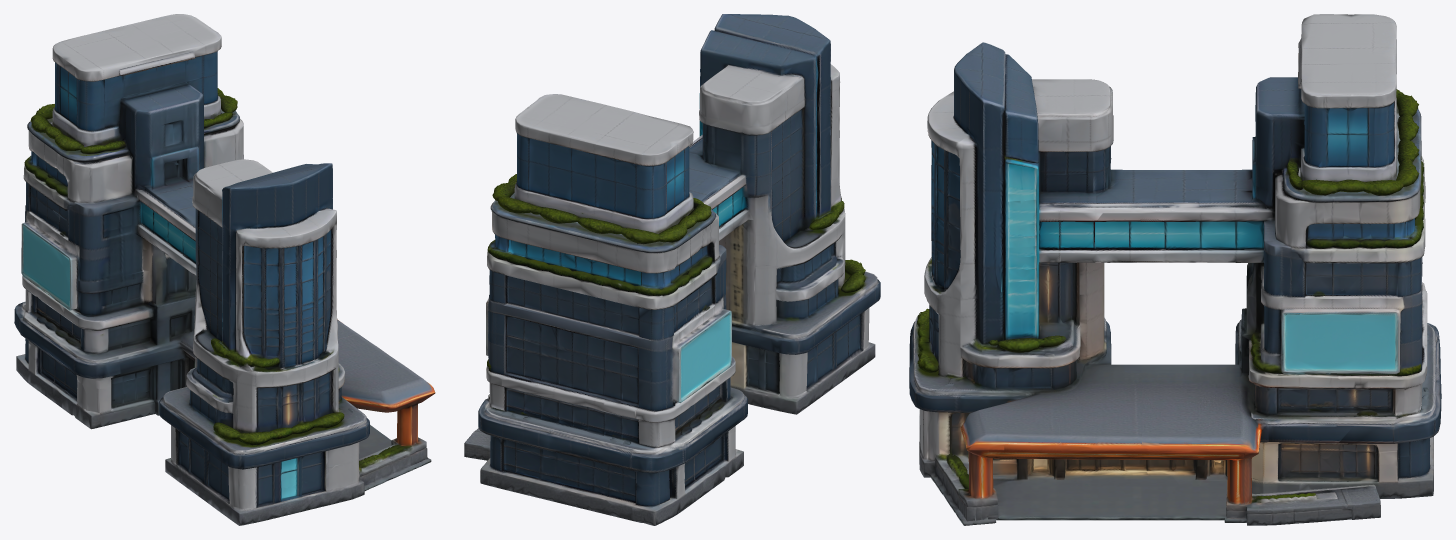
Rendered from level-4-web.glb.
The picture shows the model from 3 angles, left to right: view 1: azimuth 30°, elevation 25°; view 2: azimuth 150°, elevation 25°; view 3: azimuth 270°, elevation 25°; orthographic projection. The views are drawn at different scales.
Parts seen in each view (by area): view 1: tripo_node_f47280e8-8169-466e-a1cc-a0d643840b1c; view 2: tripo_node_f47280e8-8169-466e-a1cc-a0d643840b1c; view 3: tripo_node_f47280e8-8169-466e-a1cc-a0d643840b1c.
Part boxes in pixels (x1,y1,x2,y2): tripo_node_f47280e8-8169-466e-a1cc-a0d643840b1c: (14, 14, 435, 525); tripo_node_f47280e8-8169-466e-a1cc-a0d643840b1c: (464, 14, 880, 525); tripo_node_f47280e8-8169-466e-a1cc-a0d643840b1c: (909, 14, 1441, 525).
Size of the model in its own units: 0.5948 by 0.8027 by 0.9805.
1 material, 1 textured.
